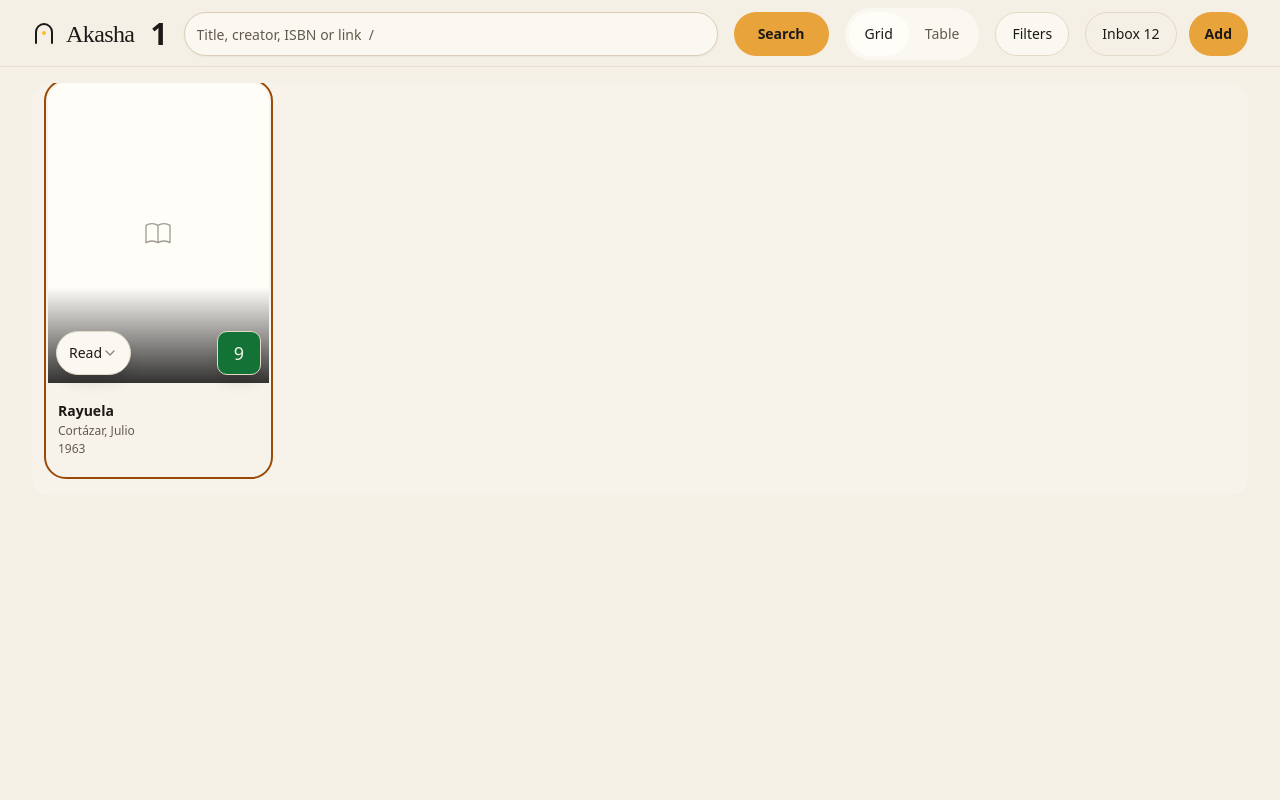
Test: the rollback restores the query key it snapshotted, not the one on screen
The width and height of the screenshot is (1280, 800).
Type keys "4"
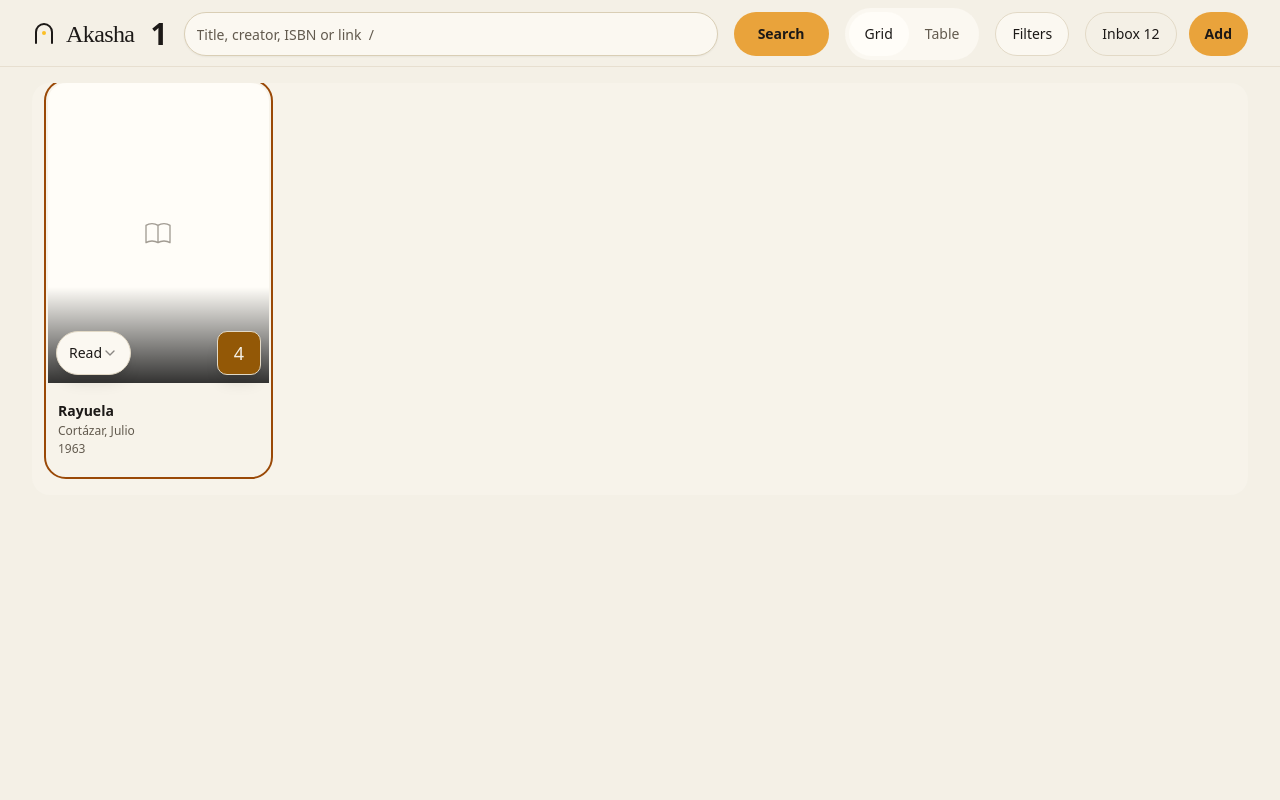
Check: the button named "score for rayuela: 4" is shown, box [217,331,261,375]
Click the button "Filters" at (1032, 34), box [995,12,1069,56]
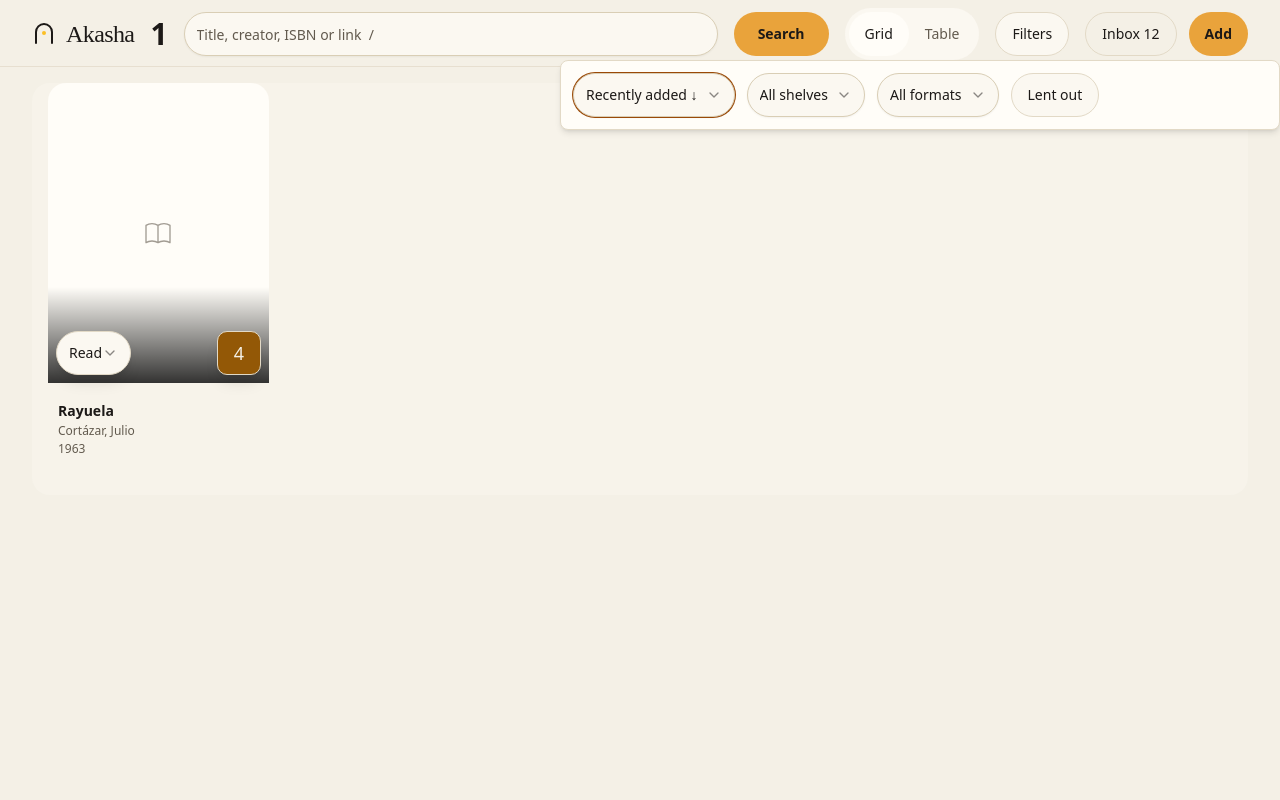
Check: the dropdown named "Sort library" is shown
Click the dropdown named "Sort library" at (654, 95), box [573,73,734,117]
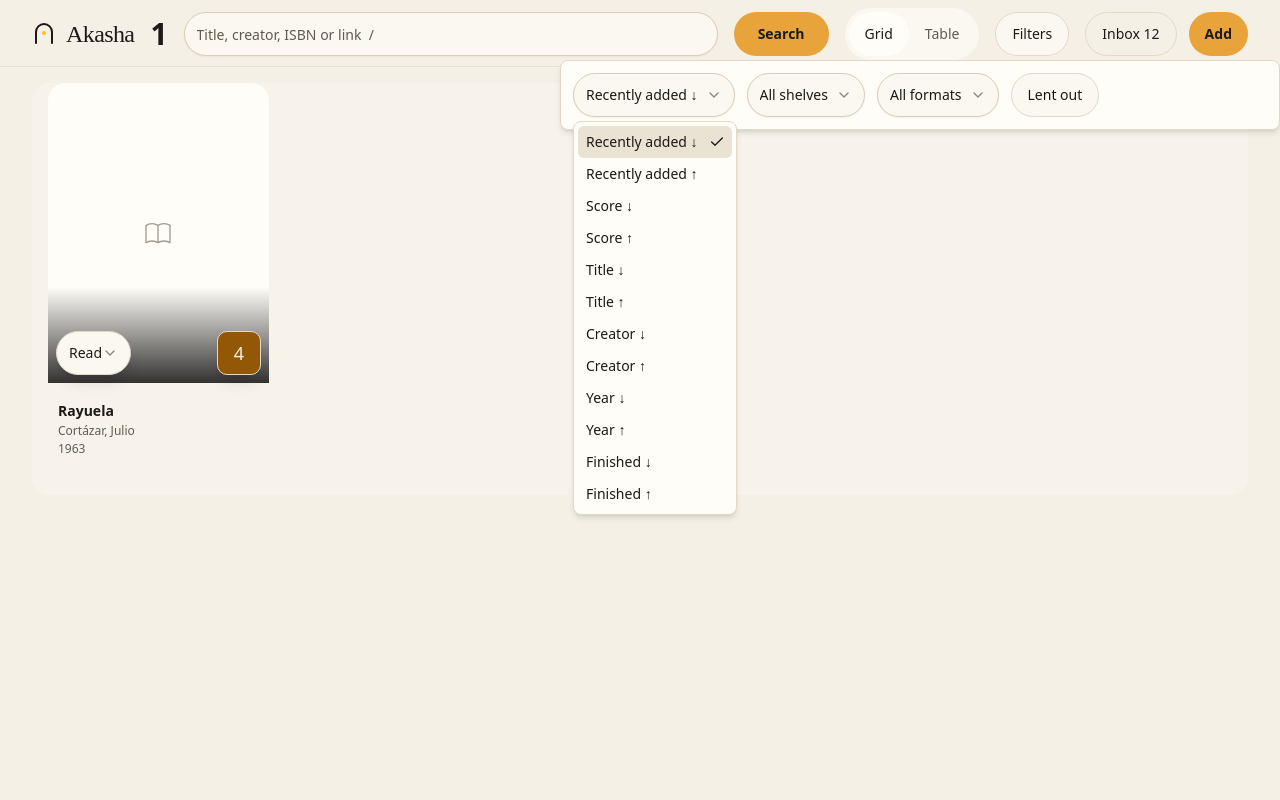
Click the option "Score ↓" at (609, 206), box [586,196,633,215]
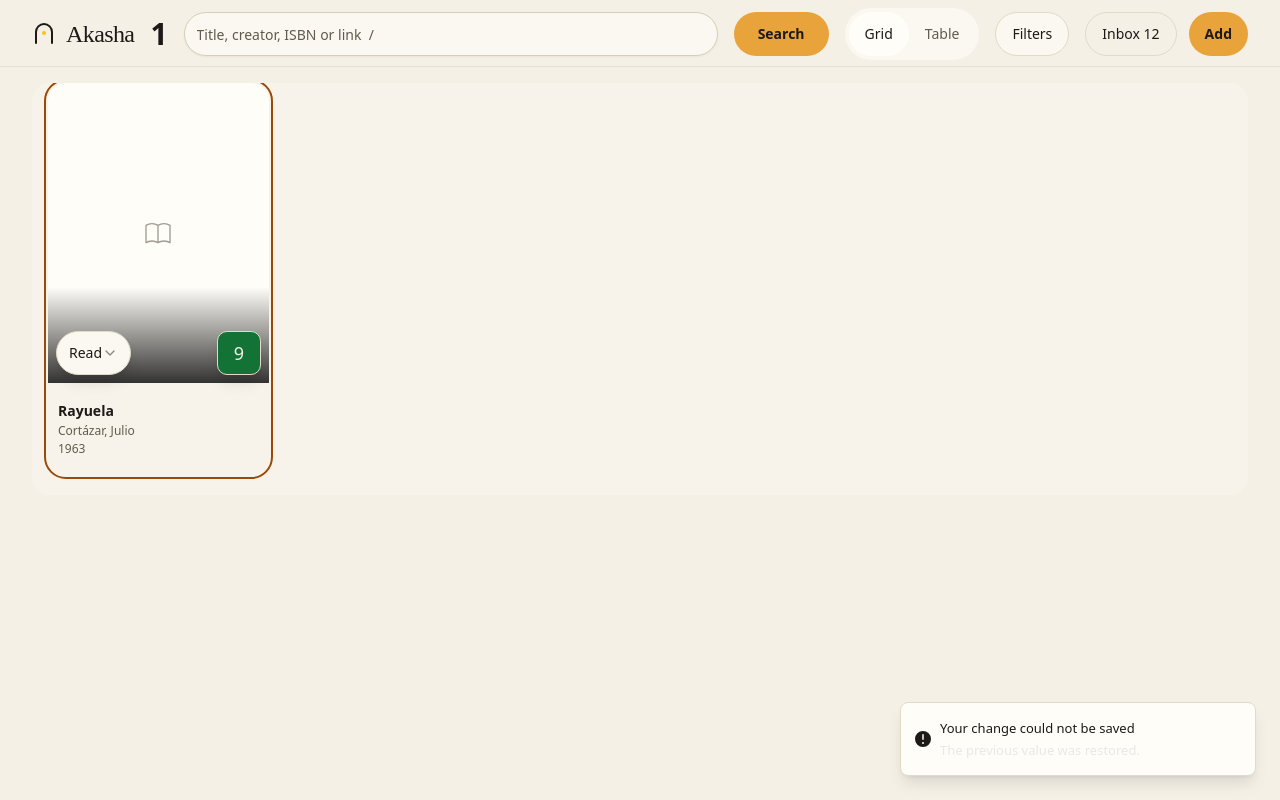
Check: the list item is shown, box [900,702,1256,776]
